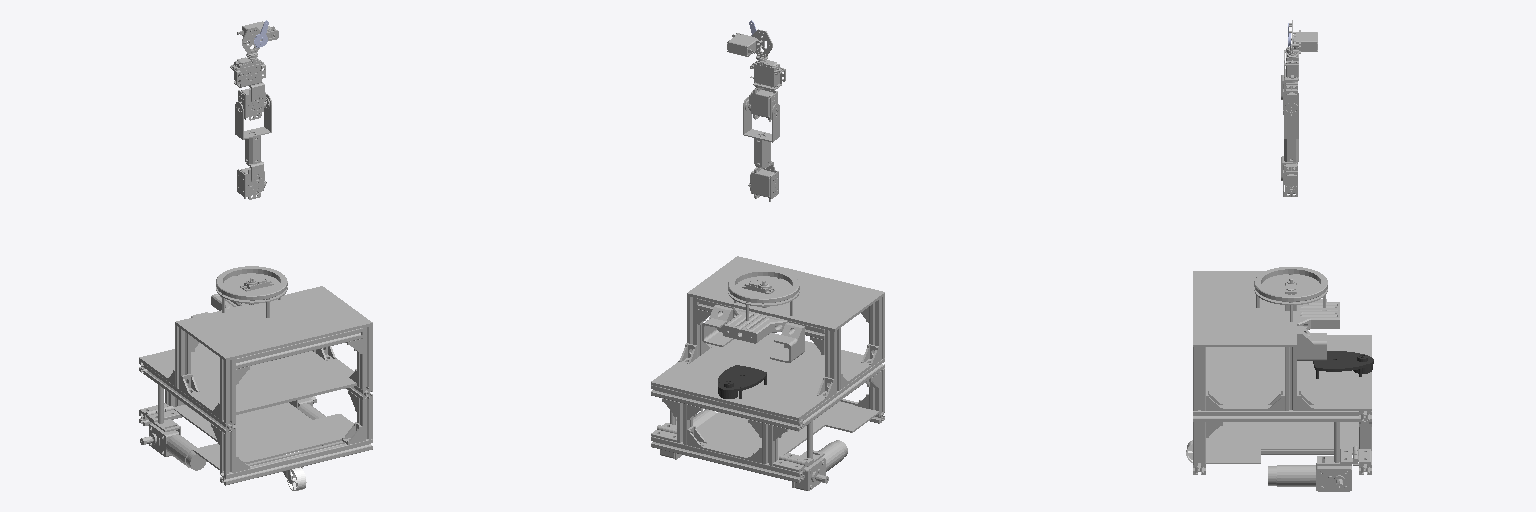
robot.urdf — tf_urdf:
<?xml version="1.0" encoding="utf-8"?>
<!-- This URDF was automatically created by SolidWorks to URDF Exporter! Originally created by [author] ([email redacted]) 
     Commit Version: 1.6.0-4-g7f85cfe  Build Version: 1.6.7995.38578
     For more information, please see http://wiki.ros.org/sw_urdf_exporter -->
<robot
  name="tf_urdf">
  <link name="base_footprint"/>
  <joint name="base_joint" type="fixed">
    <parent link="base_footprint"/>
    <child link="base_link"/>
    <origin xyz="0.0 0.0 0.16" rpy="0 0 0"/>
  </joint>
  <link
    name="base_link">
    <inertial>
      <origin
        xyz="0.0817686415084985 0.201716253582511 0.245652217757475"
        rpy="0 0 0" />
      <mass
        value="2.12847235417489" />
      <inertia
        ixx="0.00568558429619815"
        ixy="-5.06469118333443E-08"
        ixz="-1.52677188962258E-09"
        iyy="0.0118606210878676"
        iyz="5.49851568728939E-06"
        izz="0.00660980095489616" />
    </inertial>
    <visual>
      <origin
        xyz="0 0 0"
        rpy="0 0 0" />
      <geometry>
        <mesh
          filename="package://tf_urdf/meshes/base_link.STL" />
      </geometry>
      <material
        name="">
        <color
          rgba="0.752941176470588 0.752941176470588 0.752941176470588 1" />
      </material>
    </visual>
    <collision>
      <origin
        xyz="0 0 0"
        rpy="0 0 0" />
      <geometry>
        <mesh
          filename="package://tf_urdf/meshes/base_link.STL" />
      </geometry>
    </collision>
  </link>
  <link
    name="base_laser_link">
    <inertial>
      <origin
        xyz="0.0028721 -0.00017144 0"
        rpy="0 0 0" />
      <mass
        value="0.36837" />
      <inertia
        ixx="9.6829E-05"
        ixy="1.4542E-05"
        ixz="-5.574E-20"
        iyy="0.00035647"
        iyz="-2.3194E-21"
        izz="0.00027601" />
    </inertial>
    <visual>
      <origin
        xyz="0 0 0"
        rpy="0 0 0" />
      <geometry>
        <mesh
          filename="package://tf_urdf/meshes/base_laser_link.STL" />
      </geometry>
      <material
        name="">
        <color
          rgba="0.29804 0.29804 0.29804 1" />
      </material>
    </visual>
    <collision>
      <origin
        xyz="0 0 0"
        rpy="0 0 0" />
      <geometry>
        <mesh
          filename="package://tf_urdf/meshes/base_laser_link.STL" />
      </geometry>
    </collision>
  </link>
  <joint
    name="base_laser_joint"
    type="fixed">
    <origin
      xyz="0.081637 -0.14956 0.22853"
      rpy="1.5708 0 1.5708" />
    <parent
      link="base_link" />
    <child
      link="base_laser_link" />
    <axis
      xyz="0 0 0" />
  </joint>
  <link
    name="laser_link">
    <inertial>
      <origin
        xyz="2.77555756156289E-17 0.00994901655834557 -2.77555756156289E-17"
        rpy="0 0 0" />
      <mass
        value="0.0660277715680958" />
      <inertia
        ixx="1.96156877893573E-05"
        ixy="-1.28490646656236E-22"
        ixz="4.2351647362715E-21"
        iyy="3.48742138584865E-05"
        iyz="2.07966207894997E-22"
        izz="1.96156117763069E-05" />
    </inertial>
    <visual>
      <origin
        xyz="0 0 0"
        rpy="0 0 0" />
      <geometry>
        <mesh
          filename="package://tf_urdf/meshes/laser_link.STL" />
      </geometry>
      <material
        name="">
        <color
          rgba="0.792156862745098 0.819607843137255 0.933333333333333 1" />
      </material>
    </visual>
    <collision>
      <origin
        xyz="0 0 0"
        rpy="0 0 0" />
      <geometry>
        <mesh
          filename="package://tf_urdf/meshes/laser_link.STL" />
      </geometry>
    </collision>
  </link>
  <joint
    name="laser_joint"
    type="continuous">
    <origin
      xyz="-0.01425 0.005 0"
      rpy="3.1416 0.84114 3.1416" />
    <parent
      link="base_laser_link" />
    <child
      link="laser_link" />
    <axis
      xyz="0 1 0" />
  </joint>
  <link
    name="camera_link">
    <inertial>
      <origin
        xyz="-3.59690519788347E-06 -8.99346713536531E-05 -0.0199626938384505"
        rpy="0 0 0" />
      <mass
        value="0.18299872097753" />
      <inertia
        ixx="3.59922737707122E-05"
        ixy="2.02071945527673E-09"
        ixz="4.50577550158109E-08"
        iyy="0.000405203074559153"
        iyz="4.47034664095324E-08"
        izz="0.000396282423728644" />
    </inertial>
    <visual>
      <origin
        xyz="0 0 0"
        rpy="0 0 0" />
      <geometry>
        <mesh
          filename="package://tf_urdf/meshes/camera_link.STL" />
      </geometry>
      <material
        name="">
        <color
          rgba="0.752941176470588 0.752941176470588 0.752941176470588 1" />
      </material>
    </visual>
    <collision>
      <origin
        xyz="0 0 0"
        rpy="0 0 0" />
      <geometry>
        <mesh
          filename="package://tf_urdf/meshes/camera_link.STL" />
      </geometry>
    </collision>
  </link>
  <joint
    name="camera_joint"
    type="fixed">
    <origin
      xyz="0.081637 -0.18181 0.28753"
      rpy="1.5708 0 3.1416" />
    <parent
      link="base_link" />
    <child
      link="camera_link" />
    <axis
      xyz="0 0 0" />
  </joint>
  <link
    name="left_wheel_link">
    <inertial>
      <origin
        xyz="-0.0150496497452623 -1.96229144044935E-12 -2.77555756156289E-17"
        rpy="0 0 0" />
      <mass
        value="0.0895053073671552" />
      <inertia
        ixx="0.000104006422478187"
        ixy="7.89418446961566E-16"
        ixz="4.65503323340839E-20"
        iyy="5.80082032825446E-05"
        iyz="9.78345076935346E-16"
        izz="5.80082032677947E-05" />
    </inertial>
    <visual>
      <origin
        xyz="0 0 0"
        rpy="0 0 0" />
      <geometry>
        <mesh
          filename="package://tf_urdf/meshes/left_wheel_link.STL" />
      </geometry>
      <material
        name="">
        <color
          rgba="0.250980392156863 0.250980392156863 0.250980392156863 1" />
      </material>
    </visual>
    <collision>
      <origin
        xyz="0 0 0"
        rpy="0 0 0" />
      <geometry>
        <mesh
          filename="package://tf_urdf/meshes/left_wheel_link.STL" />
      </geometry>
    </collision>
  </link>
  <joint
    name="left_wheel_joint"
    type="continuous">
    <origin
      xyz="-0.072863 -0.15606 0.083528"
      rpy="0.84849 0 0" />
    <parent
      link="base_link" />
    <child
      link="left_wheel_link" />
    <axis
      xyz="1 0 0" />
  </joint>
  <link
    name="right_wheel_link">
    <inertial>
      <origin
        xyz="-0.0150496497452624 -1.96037630573187E-12 -1.13797860024079E-15"
        rpy="0 0 0" />
      <mass
        value="0.0895053073671552" />
      <inertia
        ixx="0.000104006422478187"
        ixy="7.89525481188872E-16"
        ixz="-4.59989735872422E-20"
        iyy="5.80082032825445E-05"
        iyz="9.7834677100124E-16"
        izz="5.80082032677946E-05" />
    </inertial>
    <visual>
      <origin
        xyz="0 0 0"
        rpy="0 0 0" />
      <geometry>
        <mesh
          filename="package://tf_urdf/meshes/right_wheel_link.STL" />
      </geometry>
      <material
        name="">
        <color
          rgba="0.250980392156863 0.250980392156863 0.250980392156863 1" />
      </material>
    </visual>
    <collision>
      <origin
        xyz="0 0 0"
        rpy="0 0 0" />
      <geometry>
        <mesh
          filename="package://tf_urdf/meshes/right_wheel_link.STL" />
      </geometry>
    </collision>
  </link>
  <joint
    name="right_wheel_joint"
    type="continuous">
    <origin
      xyz="0.23614 -0.15606 0.083528"
      rpy="0.5371 0 3.1416" />
    <parent
      link="base_link" />
    <child
      link="right_wheel_link" />
    <axis
      xyz="1 0 0" />
  </joint>
  <link
    name="caster_wheel_link">
    <inertial>
      <origin
        xyz="0.00988759049853666 -5.55111512312578E-17 -4.85722573273506E-17"
        rpy="0 0 0" />
      <mass
        value="0.01152385226836" />
      <inertia
        ixx="2.43995864492354E-06"
        ixy="-1.18452263717594E-21"
        ixz="5.37047012700053E-22"
        iyy="1.40033256895838E-06"
        iyz="-1.419441931141E-21"
        izz="1.40033256895838E-06" />
    </inertial>
    <visual>
      <origin
        xyz="0 0 0"
        rpy="0 0 0" />
      <geometry>
        <mesh
          filename="package://tf_urdf/meshes/caster_wheel_link.STL" />
      </geometry>
      <material
        name="">
        <color
          rgba="1 1 1 1" />
      </material>
    </visual>
    <collision>
      <origin
        xyz="0 0 0"
        rpy="0 0 0" />
      <geometry>
        <mesh
          filename="package://tf_urdf/meshes/caster_wheel_link.STL" />
      </geometry>
    </collision>
  </link>
  <joint
    name="caster_wheel_joint"
    type="continuous">
    <origin
      xyz="0.071174 -0.38546 0.068528"
      rpy="3.1007 0 -0.034236" />
    <parent
      link="base_link" />
    <child
      link="caster_wheel_link" />
    <axis
      xyz="1 0 0" />
  </joint>
  <link
    name="arm_1_link">
    <inertial>
      <origin
        xyz="-0.00304007443823012 0.0196164335839695 -0.0029151743350484"
        rpy="0 0 0" />
      <mass
        value="0.102309676276625" />
      <inertia
        ixx="5.85277338482376E-05"
        ixy="-1.83034221412611E-07"
        ixz="-5.85534114234214E-07"
        iyy="0.000109918724812753"
        iyz="3.63048958051063E-07"
        izz="5.95682017387261E-05" />
    </inertial>
    <visual>
      <origin
        xyz="0 0 0"
        rpy="0 0 0" />
      <geometry>
        <mesh
          filename="package://tf_urdf/meshes/arm_1_link.STL" />
      </geometry>
      <material
        name="">
        <color
          rgba="0.752941176470588 0.752941176470588 0.752941176470588 1" />
      </material>
    </visual>
    <collision>
      <origin
        xyz="0 0 0"
        rpy="0 0 0" />
      <geometry>
        <mesh
          filename="package://tf_urdf/meshes/arm_1_link.STL" />
      </geometry>
    </collision>
  </link>
  <joint
    name="arm_1_joint"
    type="revolute">
    <origin
      xyz="0.081637 -0.23481 0.36503"
      rpy="1.5708 0 1.9678" />
    <parent
      link="base_link" />
    <child
      link="arm_1_link" />
    <axis
      xyz="0 1 0" />
    <limit
      lower="-1.57"
      upper="1.57"
      effort="10"
      velocity="100" />
  </joint>
  <link
    name="arm_2_link">
    <inertial>
      <origin
        xyz="-0.00136241892646594 0.0760000000000007 0.00324974749187036"
        rpy="0 0 0" />
      <mass
        value="0.0731866074343535" />
      <inertia
        ixx="4.80073815600739E-05"
        ixy="-1.00851029760306E-08"
        ixz="8.91994561566134E-06"
        iyy="3.20760640864427E-05"
        iyz="2.40557712940828E-08"
        izz="3.04704178358835E-05" />
    </inertial>
    <visual>
      <origin
        xyz="0 0 0"
        rpy="0 0 0" />
      <geometry>
        <mesh
          filename="package://tf_urdf/meshes/arm_2_link.STL" />
      </geometry>
      <material
        name="">
        <color
          rgba="0.752941176470588 0.752941176470588 0.752941176470588 1" />
      </material>
    </visual>
    <collision>
      <origin
        xyz="0 0 0"
        rpy="0 0 0" />
      <geometry>
        <mesh
          filename="package://tf_urdf/meshes/arm_2_link.STL" />
      </geometry>
    </collision>
  </link>
  <joint
    name="arm_2_joint"
    type="revolute">
    <origin
      xyz="0.00057178 0.0325 0.00023971"
      rpy="0 0 0" />
    <parent
      link="arm_1_link" />
    <child
      link="arm_2_link" />
    <axis
      xyz="0.38664 0 -0.92223" />
    <limit
      lower="-1.57"
      upper="1.57"
      effort="10"
      velocity="100" />
  </joint>
  <link
    name="arm_3_link">
    <inertial>
      <origin
        xyz="-0.00258153232770741 0.0524015939370736 0.00093918113872897"
        rpy="0 0 0" />
      <mass
        value="0.103604281286433" />
      <inertia
        ixx="3.85881019286922E-05"
        ixy="-4.80398927794602E-07"
        ixz="5.05895934821054E-06"
        iyy="2.28862113261529E-05"
        iyz="-1.44453356198874E-07"
        izz="2.9779453438644E-05" />
    </inertial>
    <visual>
      <origin
        xyz="0 0 0"
        rpy="0 0 0" />
      <geometry>
        <mesh
          filename="package://tf_urdf/meshes/arm_3_link.STL" />
      </geometry>
      <material
        name="">
        <color
          rgba="0.752941176470588 0.752941176470588 0.752941176470588 1" />
      </material>
    </visual>
    <collision>
      <origin
        xyz="0 0 0"
        rpy="0 0 0" />
      <geometry>
        <mesh
          filename="package://tf_urdf/meshes/arm_3_link.STL" />
      </geometry>
    </collision>
  </link>
  <joint
    name="arm_3_joint"
    type="revolute">
    <origin
      xyz="0 0.152 0"
      rpy="0 0 0" />
    <parent
      link="arm_2_link" />
    <child
      link="arm_3_link" />
    <axis
      xyz="0.38664 0 -0.92223" />
    <limit
      lower="-1.57"
      upper="1.57"
      effort="10"
      velocity="100" />
  </joint>
  <link
    name="arm_4_link">
    <inertial>
      <origin
        xyz="-0.00101187420564097 0.037501178610022 -0.00366708120952357"
        rpy="0 0 0" />
      <mass
        value="0.0995665365644681" />
      <inertia
        ixx="2.11129357138422E-05"
        ixy="-8.60509971623193E-08"
        ixz="2.61664426208593E-06"
        iyy="1.51148951719955E-05"
        iyz="-3.60758807510701E-08"
        izz="1.71059724128212E-05" />
    </inertial>
    <visual>
      <origin
        xyz="0 0 0"
        rpy="0 0 0" />
      <geometry>
        <mesh
          filename="package://tf_urdf/meshes/arm_4_link.STL" />
      </geometry>
      <material
        name="">
        <color
          rgba="0.752941176470588 0.752941176470588 0.752941176470588 1" />
      </material>
    </visual>
    <collision>
      <origin
        xyz="0 0 0"
        rpy="0 0 0" />
      <geometry>
        <mesh
          filename="package://tf_urdf/meshes/arm_4_link.STL" />
      </geometry>
    </collision>
  </link>
  <joint
    name="arm_4_joint"
    type="revolute">
    <origin
      xyz="0 0.1464 0"
      rpy="0 0 0" />
    <parent
      link="arm_3_link" />
    <child
      link="arm_4_link" />
    <axis
      xyz="0.38664 0 -0.92223" />
    <limit
      lower="-1.57"
      upper="1.57"
      effort="10"
      velocity="100" />
  </joint>
  <link
    name="arm_5_link">
    <inertial>
      <origin
        xyz="-0.00868940066555671 0.0276881875406454 -0.0253003256745066"
        rpy="0 0 0" />
      <mass
        value="0.0375612763588538" />
      <inertia
        ixx="6.51328883590985E-06"
        ixy="4.82424647091244E-09"
        ixz="1.70111532974576E-06"
        iyy="6.43248421285331E-06"
        iyz="-9.59387279796932E-09"
        izz="2.9512265127056E-06" />
    </inertial>
    <visual>
      <origin
        xyz="0 0 0"
        rpy="0 0 0" />
      <geometry>
        <mesh
          filename="package://tf_urdf/meshes/arm_5_link.STL" />
      </geometry>
      <material
        name="">
        <color
          rgba="0.752941176470588 0.752941176470588 0.752941176470588 1" />
      </material>
    </visual>
    <collision>
      <origin
        xyz="0 0 0"
        rpy="0 0 0" />
      <geometry>
        <mesh
          filename="package://tf_urdf/meshes/arm_5_link.STL" />
      </geometry>
    </collision>
  </link>
  <joint
    name="arm_5_joint"
    type="revolute">
    <origin
      xyz="0.00056091 0.09115 0.0028104"
      rpy="-3.1416 0 3.1416" />
    <parent
      link="arm_4_link" />
    <child
      link="arm_5_link" />
    <axis
      xyz="0 1 0" />
    <limit
      lower="-1.57"
      upper="1.57"
      effort="10"
      velocity="100" />
  </joint>
  <link
    name="gripper_1_link">
    <inertial>
      <origin
        xyz="0.000163480467175819 -0.0040398348913101 0.00336463442648766"
        rpy="0 0 0" />
      <mass
        value="0.00233893532260202" />
      <inertia
        ixx="2.44085104510321E-07"
        ixy="-4.9133963204329E-09"
        ixz="1.75877144742389E-23"
        iyy="7.71995240694166E-08"
        iyz="3.15652852663286E-22"
        izz="3.18397565042681E-07" />
    </inertial>
    <visual>
      <origin
        xyz="0 0 0"
        rpy="0 0 0" />
      <geometry>
        <mesh
          filename="package://tf_urdf/meshes/gripper_1_link.STL" />
      </geometry>
      <material
        name="">
        <color
          rgba="0.792156862745098 0.819607843137255 0.933333333333333 1" />
      </material>
    </visual>
    <collision>
      <origin
        xyz="0 0 0"
        rpy="0 0 0" />
      <geometry>
        <mesh
          filename="package://tf_urdf/meshes/gripper_1_link.STL" />
      </geometry>
    </collision>
  </link>
  <joint
    name="gripper_1_joint"
    type="revolute">
    <origin
      xyz="0.0068104 0.0295 -0.011783"
      rpy="0.63968 -1.068 2.4376" />
    <parent
      link="arm_5_link" />
    <child
      link="gripper_1_link" />
    <axis
      xyz="0 0 1" />
    <limit
      lower="-1.57"
      upper="1.57"
      effort="10"
      velocity="100" />
  </joint>
</robot>

--- Render facts (derived) ---
3 views of the same robot in one strip: view 1: azimuth 30°, elevation 25°; view 2: azimuth 150°, elevation 25°; view 3: azimuth 270°, elevation 25° (orthographic).
Robot: tf_urdf — 14 links, 13 joints (6 revolute, 4 continuous, 3 fixed); root link base_footprint; default pose: all joints at 0.
Visible links, largest first — view 1: base_link, arm_3_link, arm_4_link, arm_5_link; view 2: base_link, arm_3_link, arm_4_link, base_laser_link, arm_5_link; view 3: base_link, arm_3_link, base_laser_link, arm_4_link, arm_5_link.
Link boxes in pixels (x1,y1,x2,y2): base_link: (139, 266, 372, 485); arm_3_link: (235, 94, 271, 199); arm_4_link: (230, 57, 265, 120); arm_5_link: (237, 21, 278, 57); base_link: (651, 256, 884, 490); arm_3_link: (743, 97, 779, 201); arm_4_link: (749, 60, 785, 121); base_laser_link: (718, 365, 766, 398); arm_5_link: (727, 29, 772, 60); base_link: (1193, 267, 1371, 491); arm_3_link: (1281, 93, 1298, 196); base_laser_link: (1313, 351, 1373, 378); arm_4_link: (1281, 50, 1298, 114); arm_5_link: (1286, 20, 1317, 53).
Bounding box of the posed robot: 0.335 × 0.3053 × 0.8014 m (x, y, z).
Meshes: 13 distinct files referenced, 7 mesh visuals loaded (7 binary STL); not drawn: 6 (reference not matched to a file when rendering).